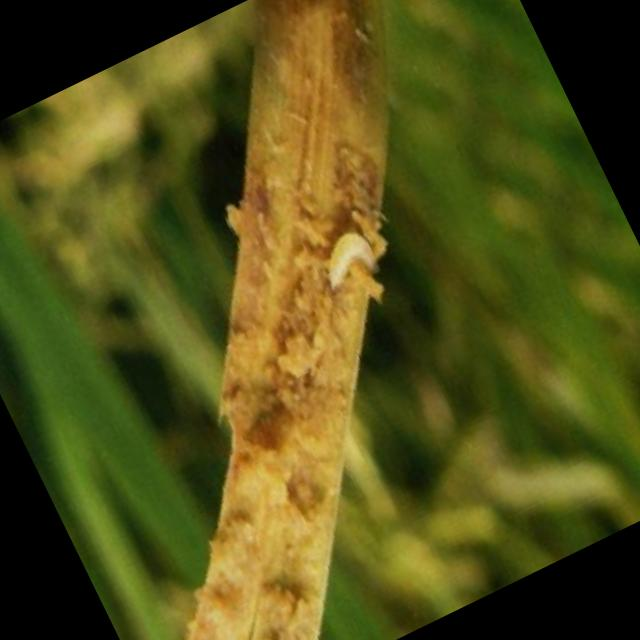whorl-maggot: (303, 210, 396, 304)
